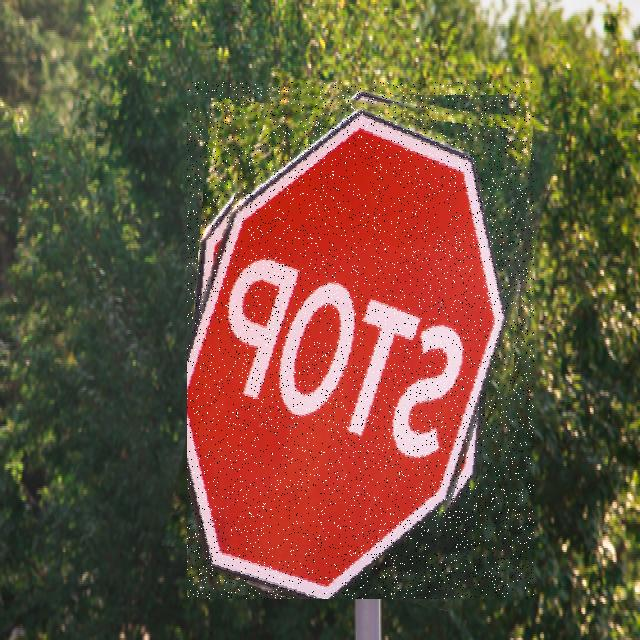stop: (187, 82, 534, 599)
